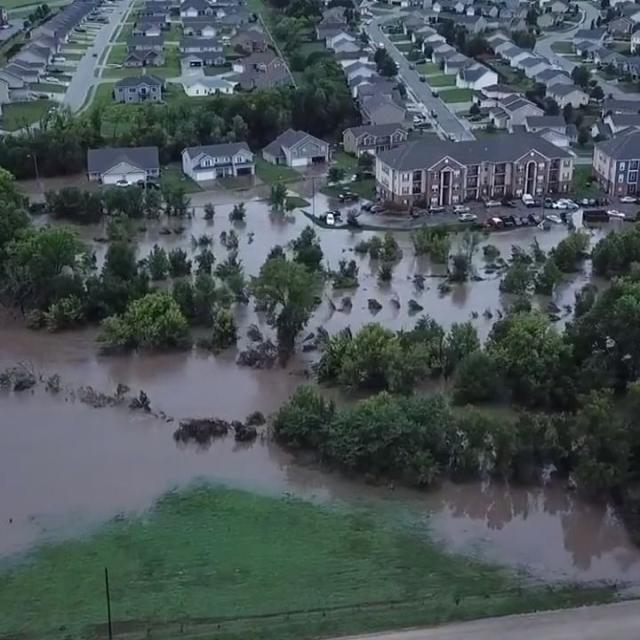flooded_areas: (23, 197, 639, 560)
